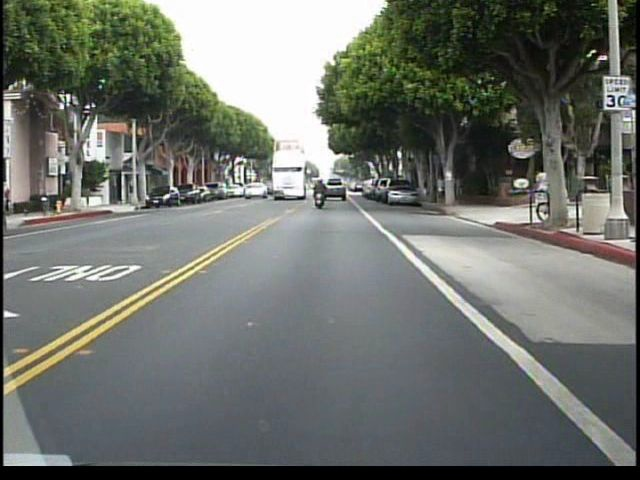person: (311, 176, 329, 216), (432, 173, 444, 206), (448, 172, 456, 202), (457, 174, 463, 203)
